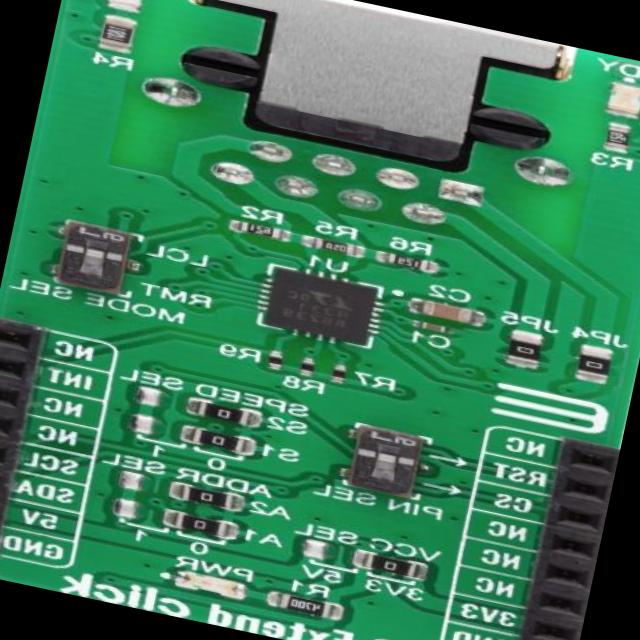LED: (177, 570, 240, 602), (604, 81, 640, 119), (105, 0, 146, 10)
capacitor: (418, 299, 482, 328), (415, 320, 450, 334)
connector: (180, 0, 567, 186), (508, 436, 619, 640), (0, 317, 46, 559)
resistor: (192, 399, 253, 429), (278, 592, 334, 620), (184, 424, 238, 452), (361, 553, 419, 579), (94, 17, 134, 54), (174, 512, 228, 538), (175, 483, 227, 508), (374, 250, 430, 272), (576, 349, 612, 383), (506, 337, 542, 366), (600, 125, 632, 154), (232, 220, 278, 240), (312, 236, 355, 255), (263, 351, 286, 368), (294, 358, 315, 375), (328, 367, 344, 383)
